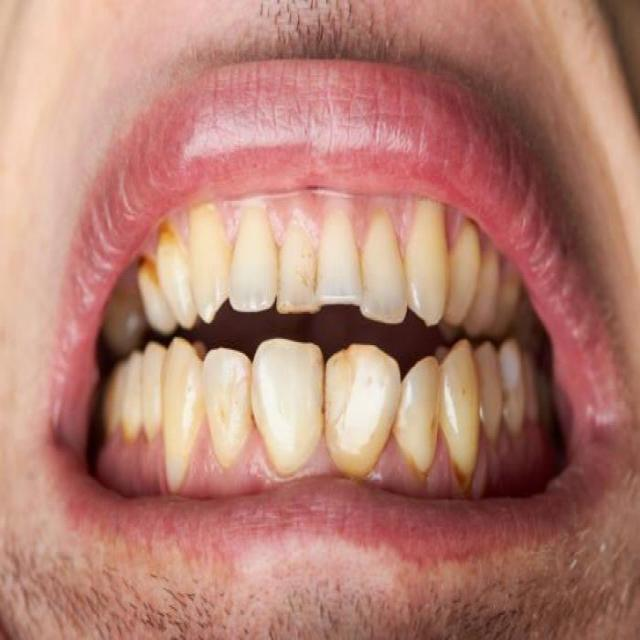CALCULUS: (443, 450, 466, 486), (137, 254, 157, 279), (162, 225, 181, 249), (411, 455, 423, 476)
